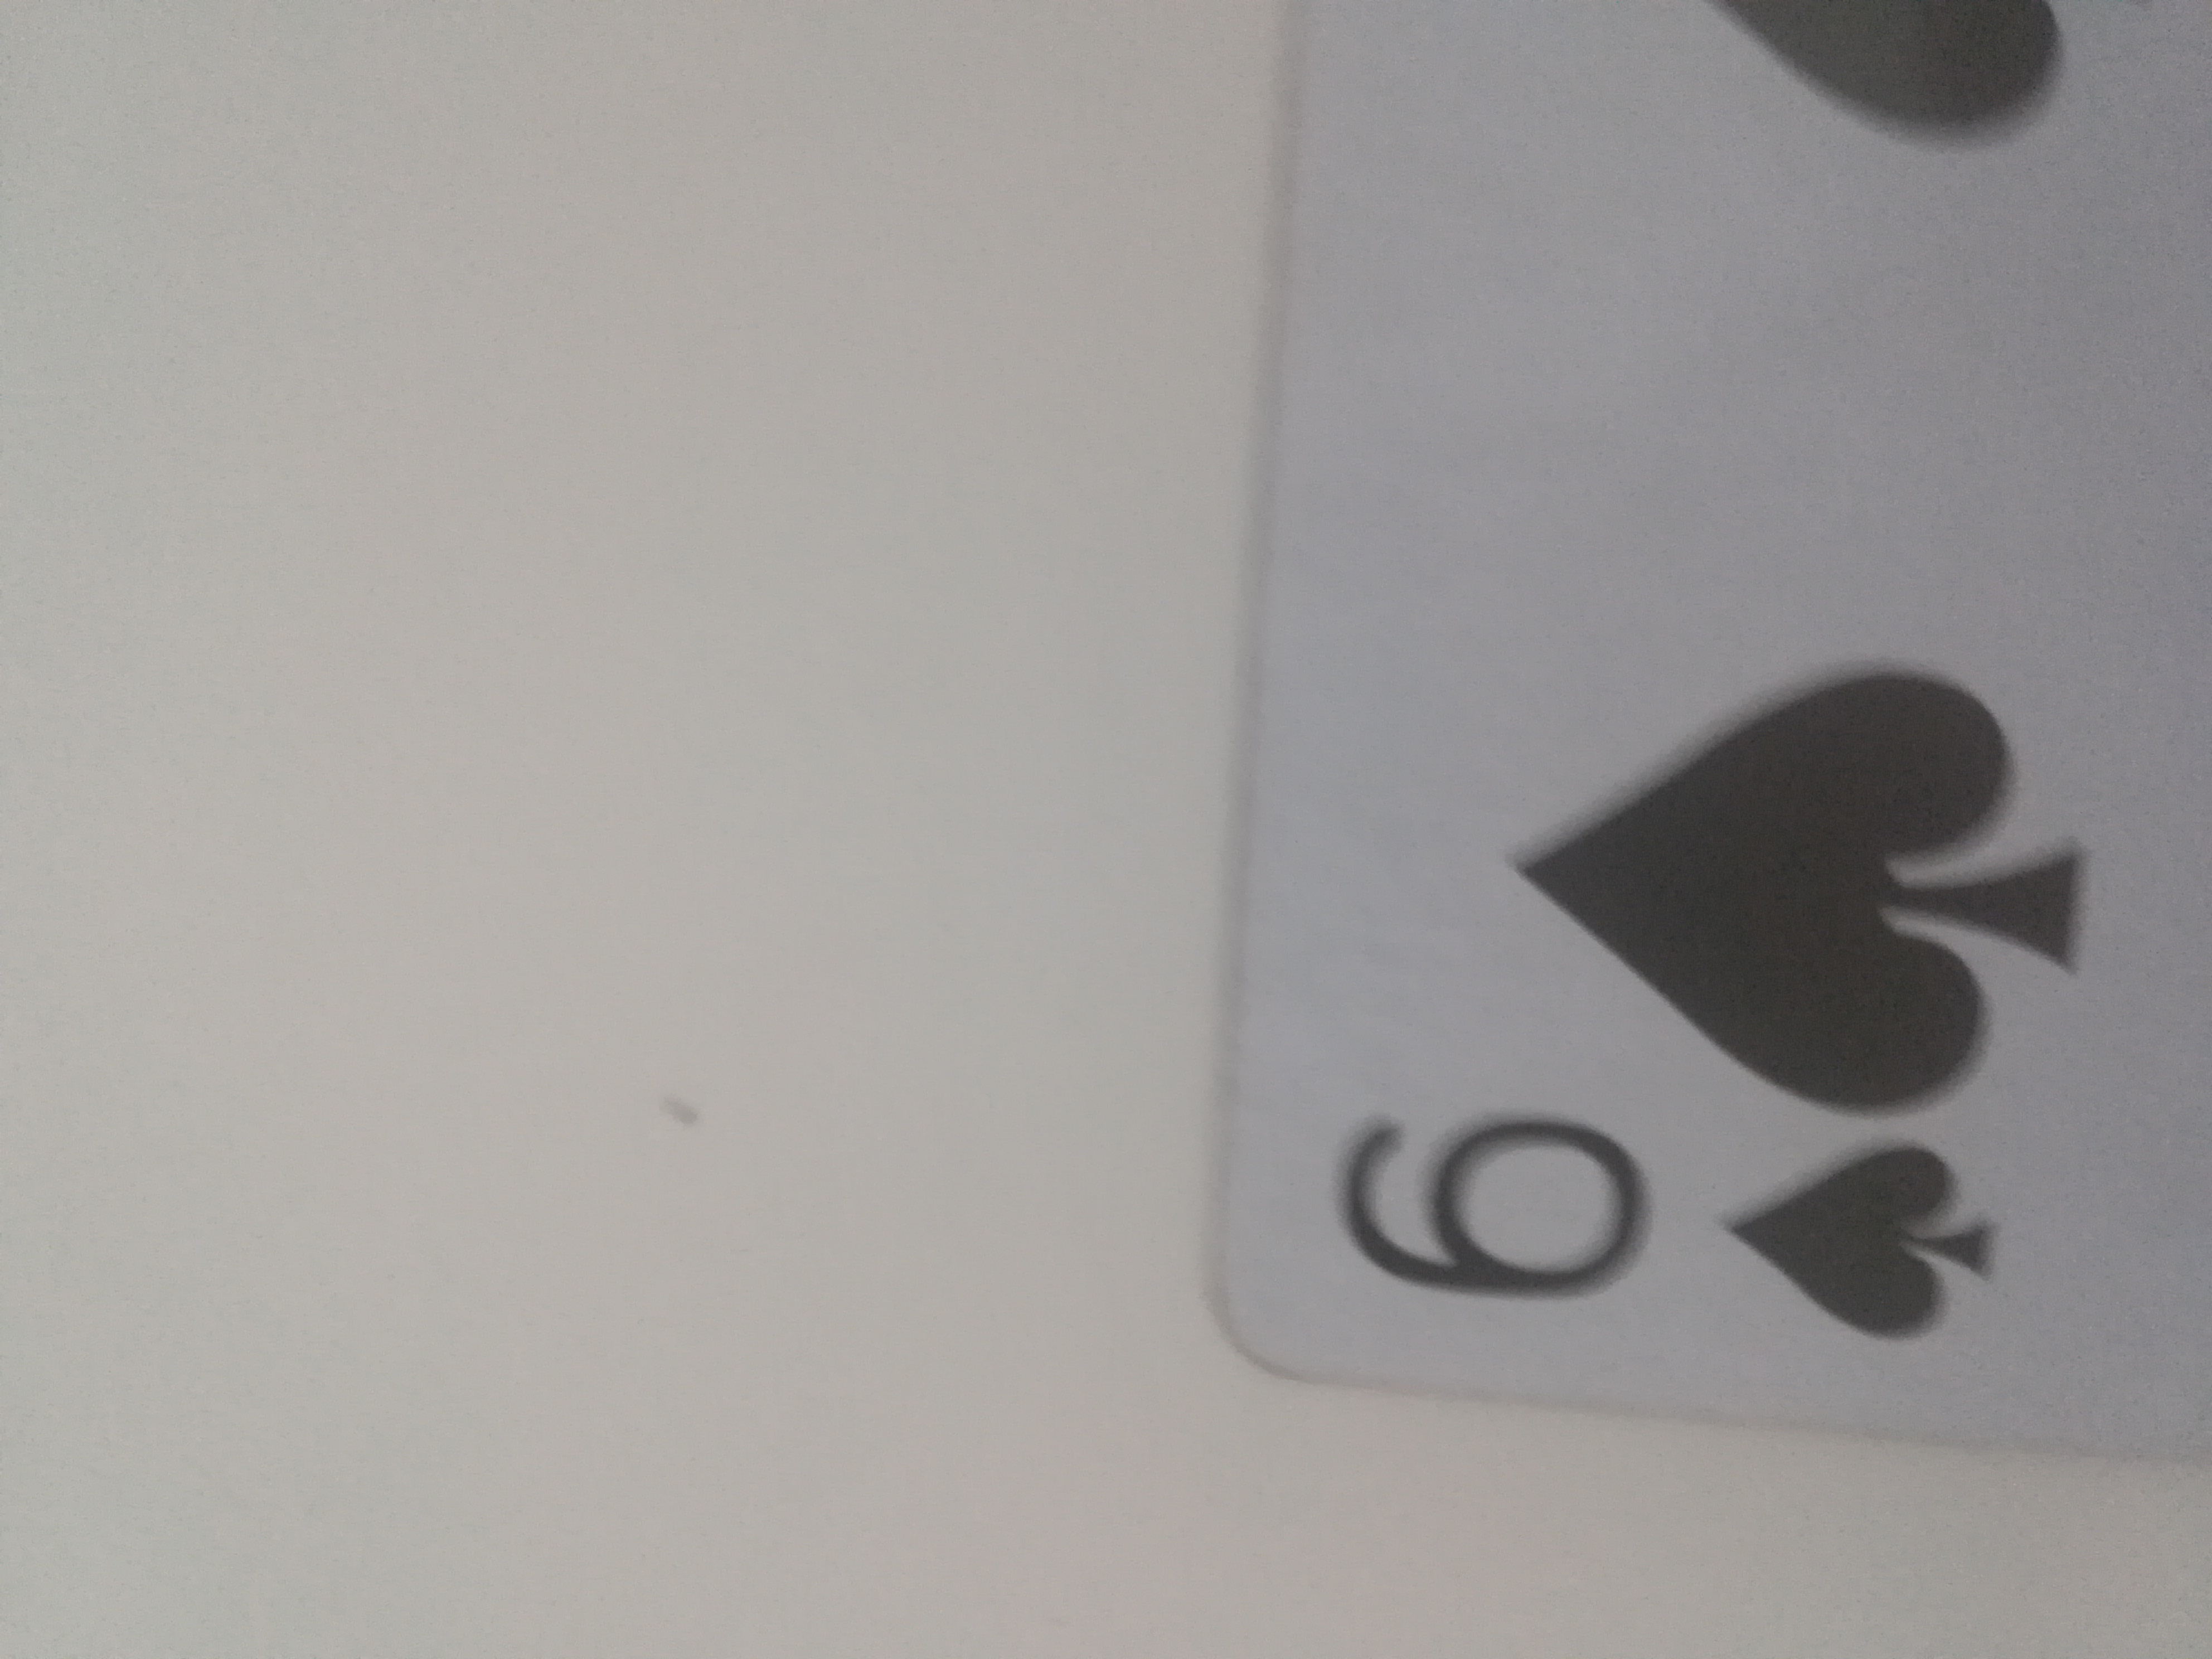6S: (1202, 3, 2212, 1493)
